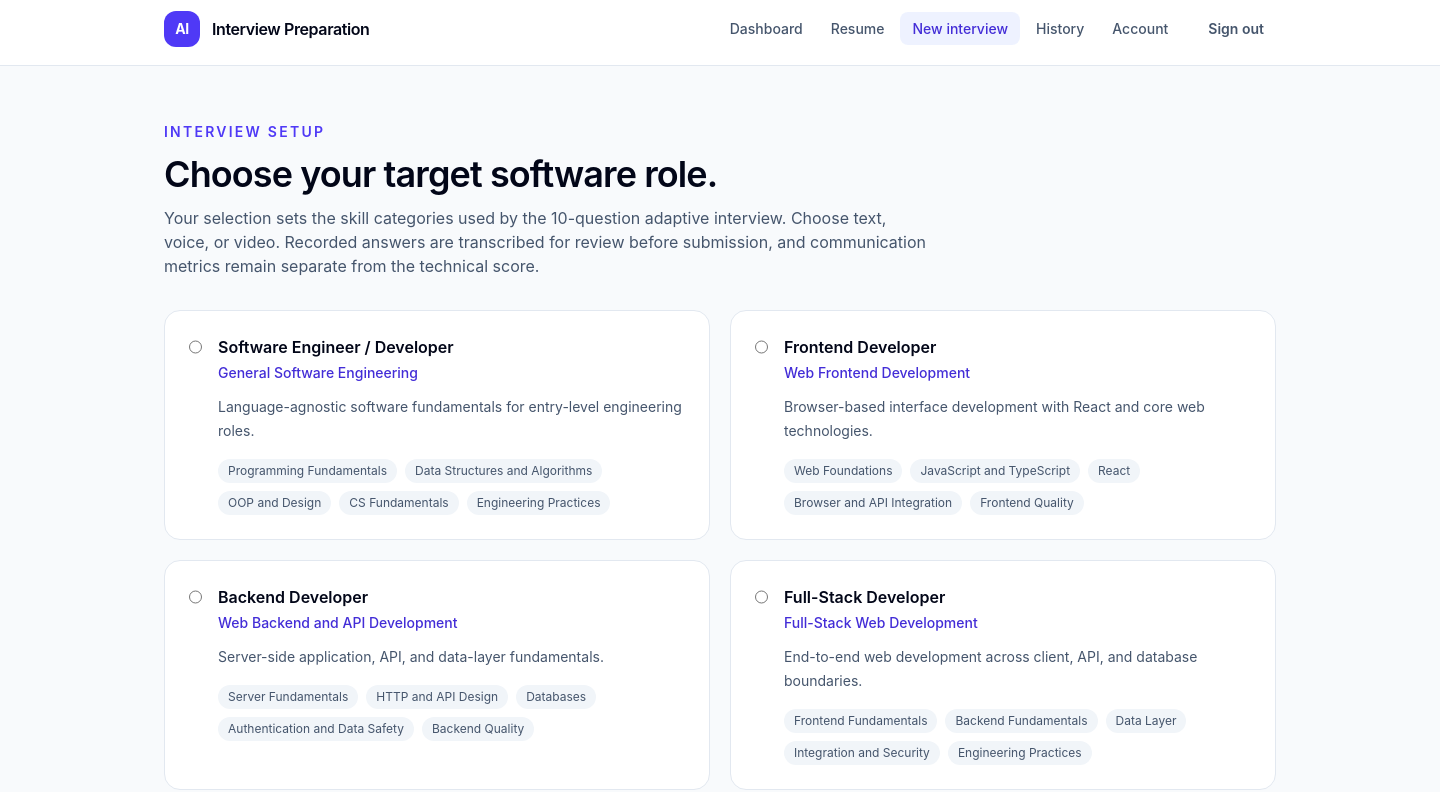
Test: Phase 2 application flows › loads all four roles and persists the selected role
Check: the heading "Choose your target software role." is shown, box [164,152,717,196]
Click the radio button labelled "Backend Developer": [196, 597] box [189,589,202,605]
(page scrolled)
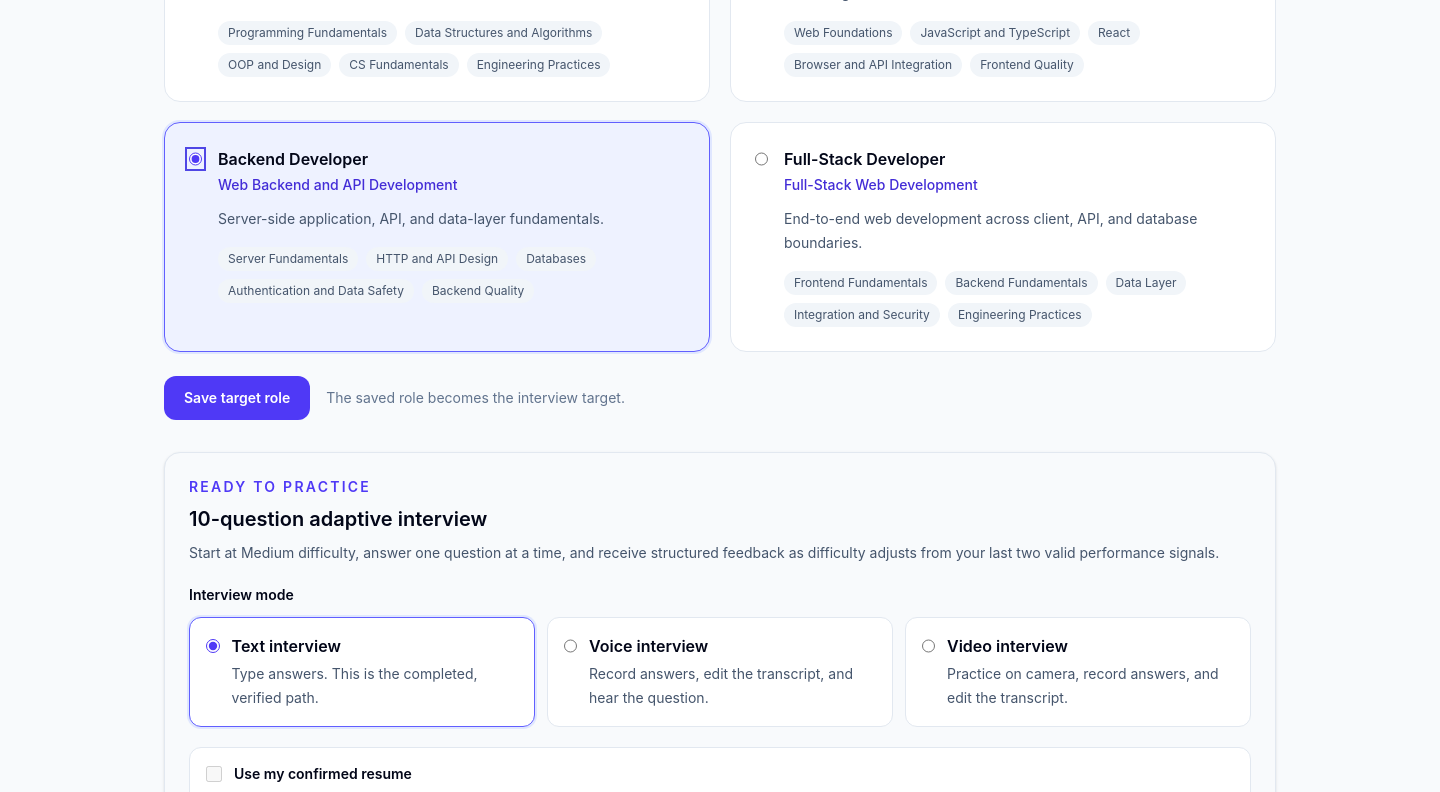
Click the button "Save target role": [237, 398] box [164,376,310,420]
(page scrolled)
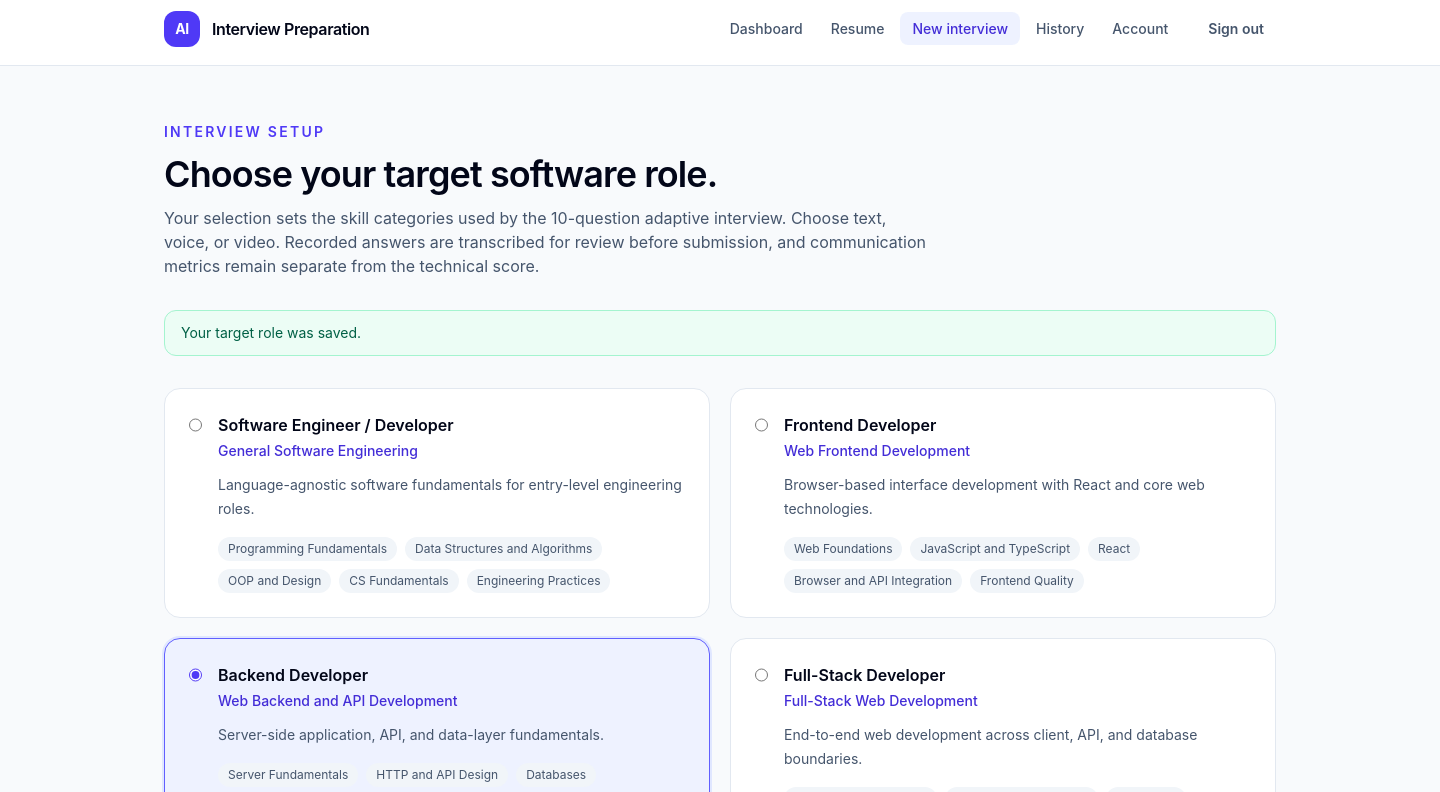
Check: the text "Your target role was saved." is shown, box [164,310,1276,356]
